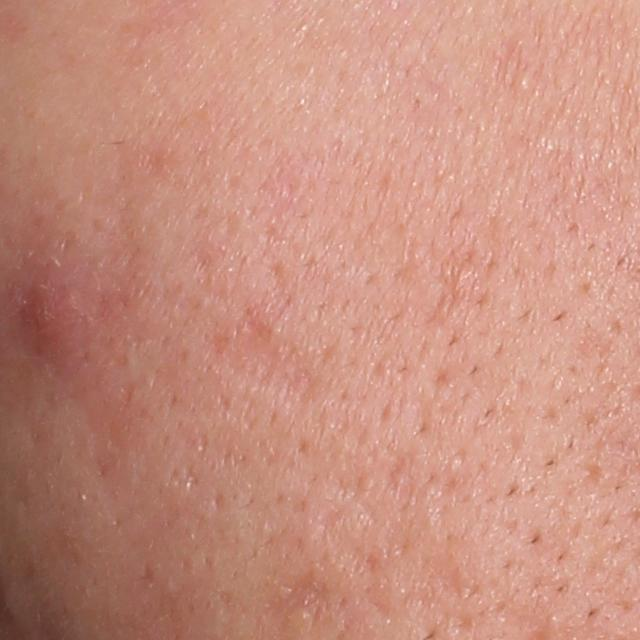atrophic_scar: (214, 312, 322, 403), (264, 569, 333, 625)
comedo: (513, 73, 532, 95)
papule: (5, 275, 90, 359)
